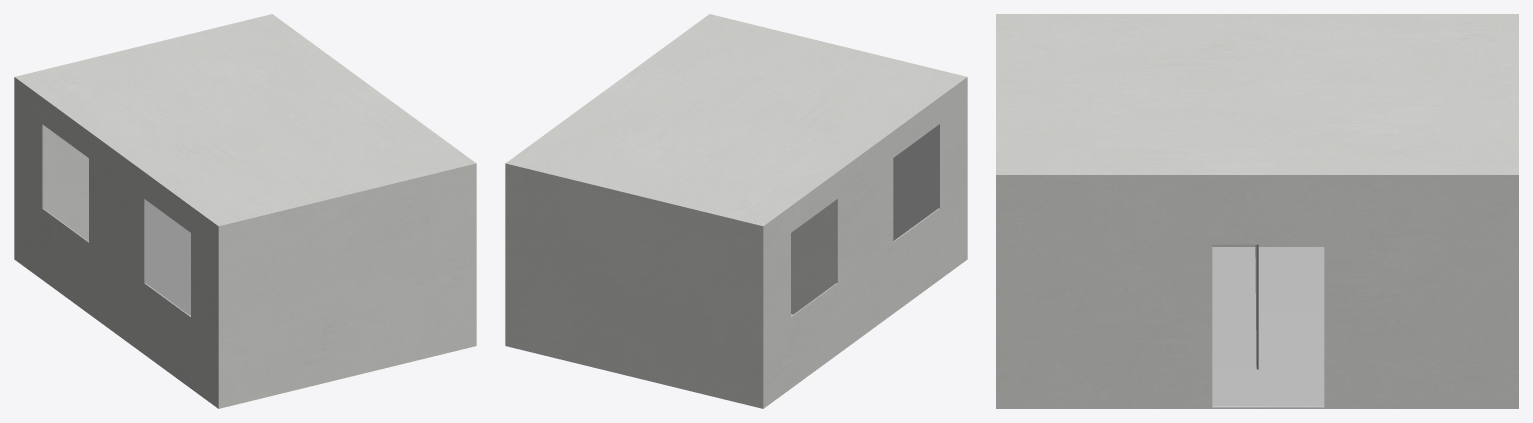
File: Home202501_SergeHome.gltf
3 views of the same model, side by side, from view 1: azimuth 30°, elevation 25°; view 2: azimuth 150°, elevation 25°; view 3: azimuth 270°, elevation 25° (orthographic). The views are drawn at different scales.
Parts seen in each view (by area): view 1: Cube; view 2: Cube; view 3: Cube.
Boxes of the visible parts, left/top/right/bottom form: Cube: left=14, top=14, right=476, bottom=408; Cube: left=505, top=14, right=967, bottom=408; Cube: left=996, top=14, right=1518, bottom=408.
Size of the model in its own units: 6.82 by 4.63 by 9.35.
